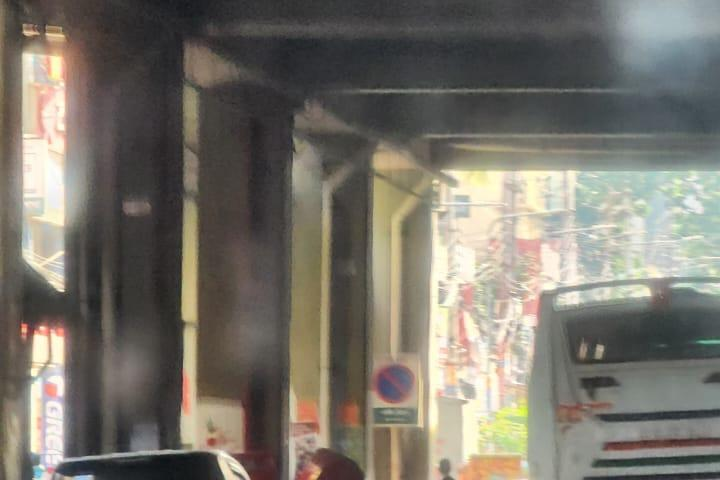No Parking: (370, 352, 421, 426)
